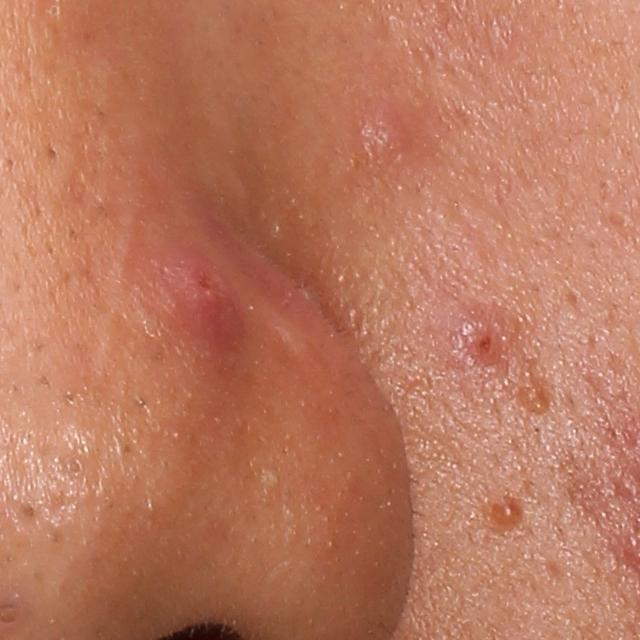comedo: (261, 469, 286, 490), (17, 501, 37, 521)
papule: (160, 251, 252, 351), (439, 306, 521, 372), (351, 95, 415, 171)
